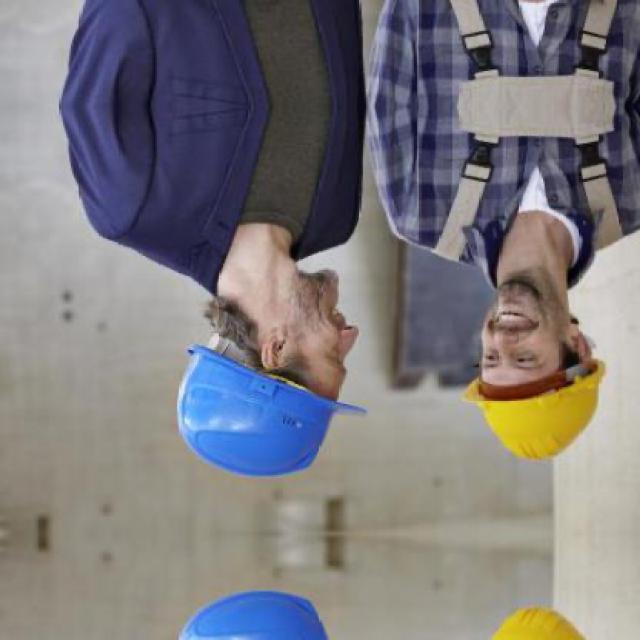con casco: (152, 300, 380, 493), (442, 339, 638, 485)
